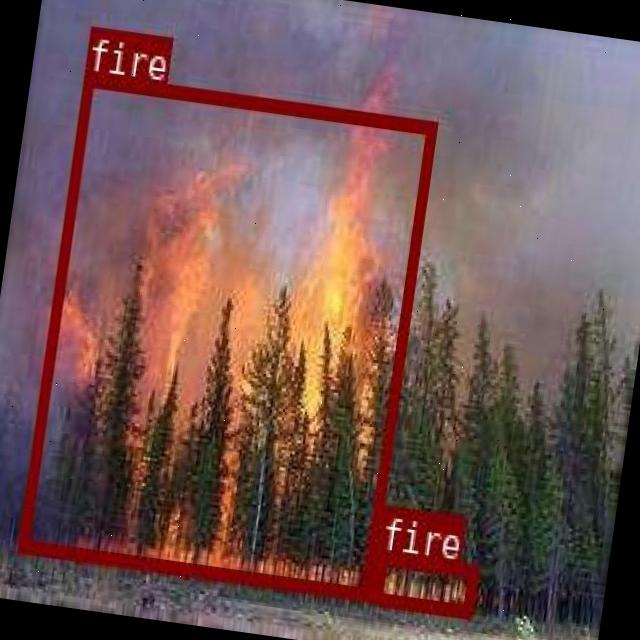fire: (17, 70, 436, 600), (371, 552, 476, 616)
